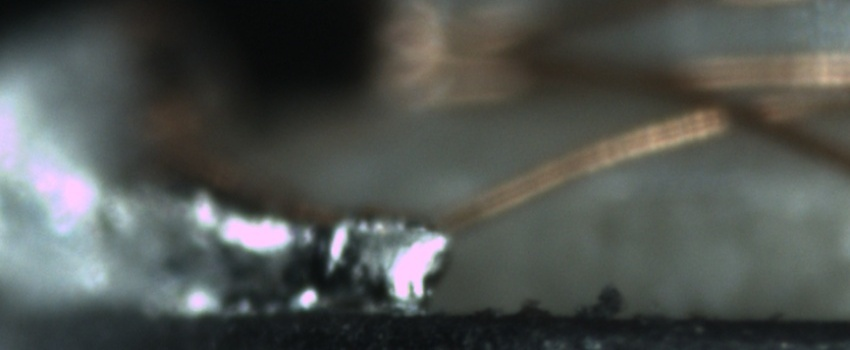DL: (580, 147, 847, 208)
